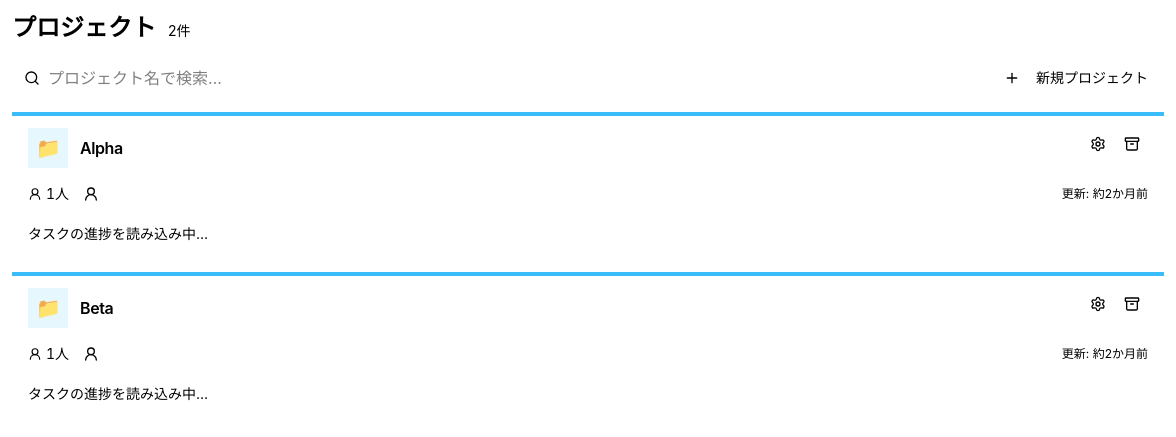
Test: project directory › searches names without case or character-width surprises and distinguishes no matches from no projects
Type "  ＢｅＴａ  " into the field labelled "プロジェクト名で検索".
click(236, 78); type("  ＢｅＴａ  ")  # box [12,60,460,96]
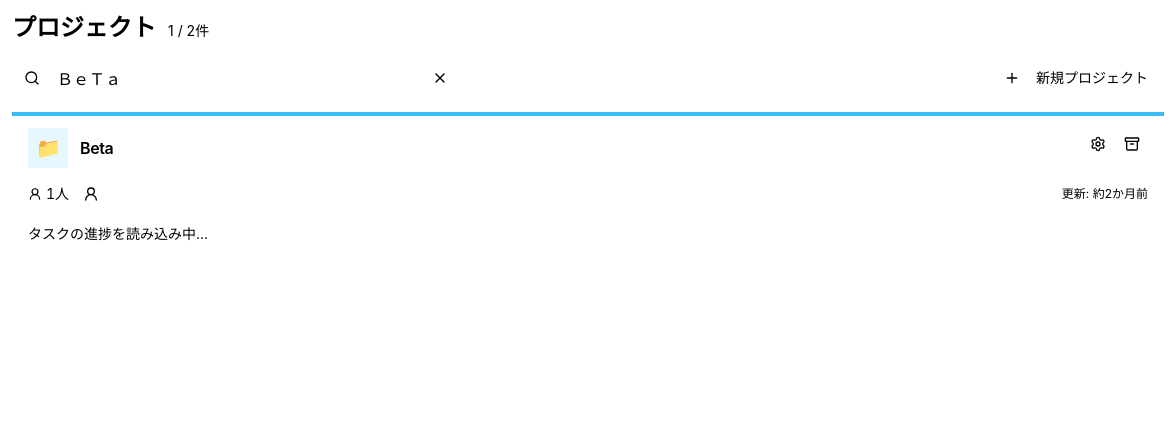
Expected: the link "📁 Beta" is shown, [28,128,113,168]
Now the link "Alpha" is gone
Replace the text in the field named "プロジェクト名で検索" with "missing" at (236, 78), box [12,60,460,96]
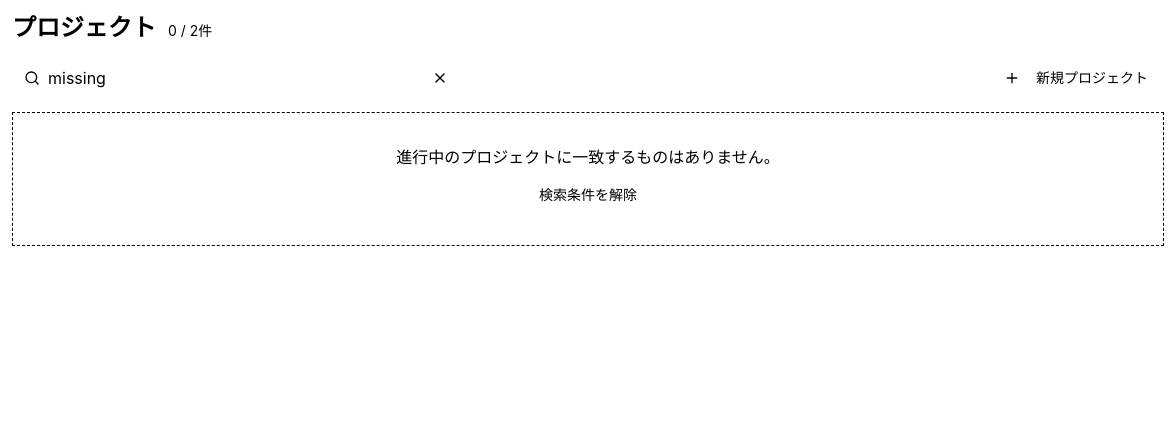
Now the text "進行中のプロジェクトに一致するものはありません。" is shown, box [396,147,780,167]
Click the button "検索条件を解除".
click(588, 195)  # box [523,177,653,213]
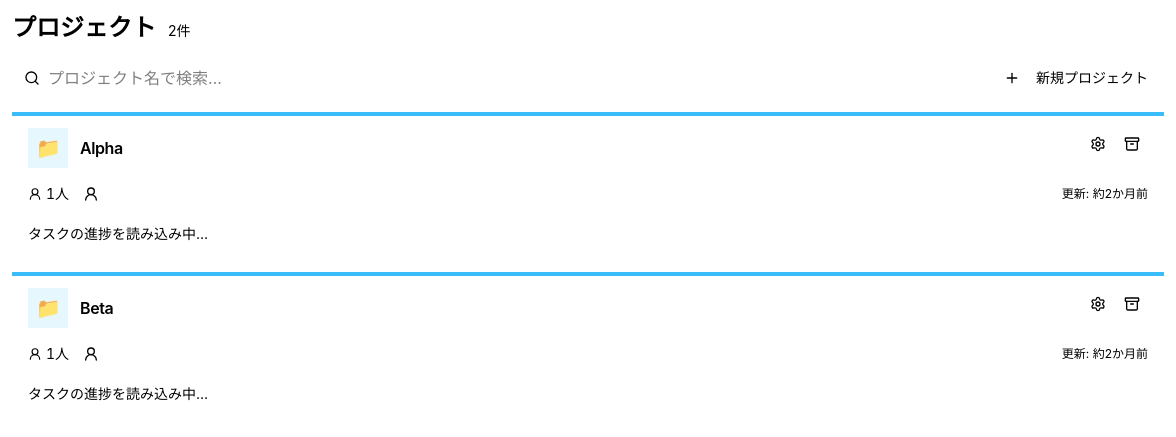
Now the number of elements with test id "project-card" is 2, box [12,112,1164,260]; [12,272,1164,420]
